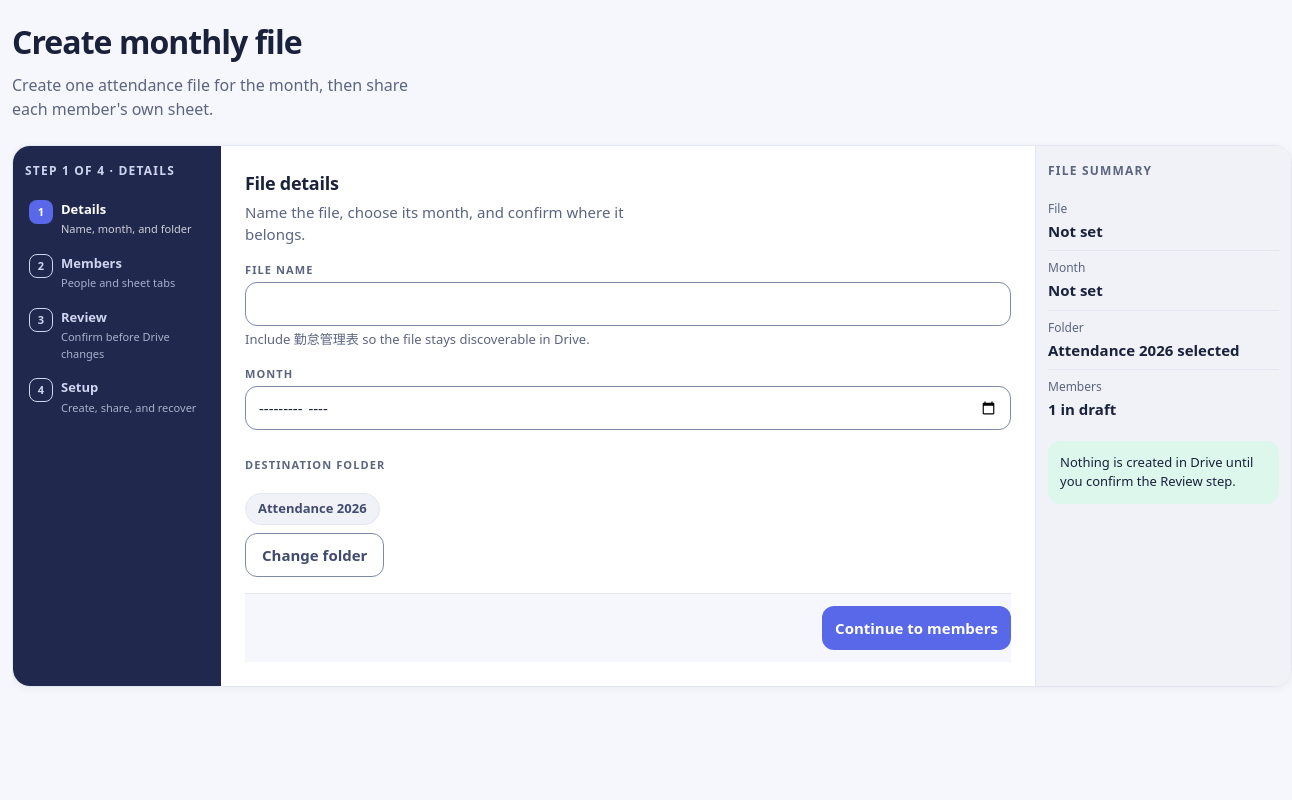
Test case: NewFileWizard — stages › moves through file details, members, then review
expect the text "Attendance 2026" is shown: met, box left=245, top=493, right=380, bottom=525
Type "202607勤怠管理表" into the field labelled "File name" at (628, 304), box left=245, top=282, right=1011, bottom=326
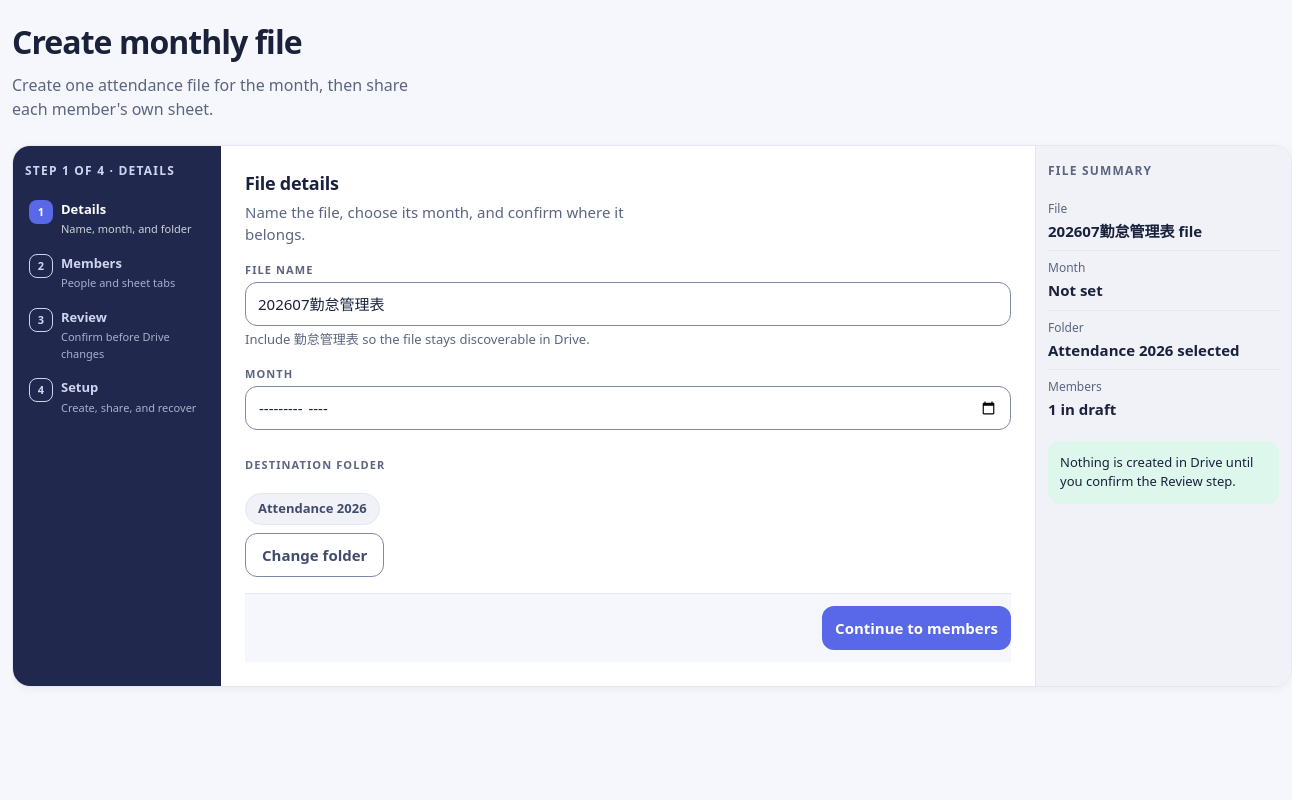
Type "2026-07" into the field labelled "Month" at (628, 408), box left=245, top=386, right=1011, bottom=430
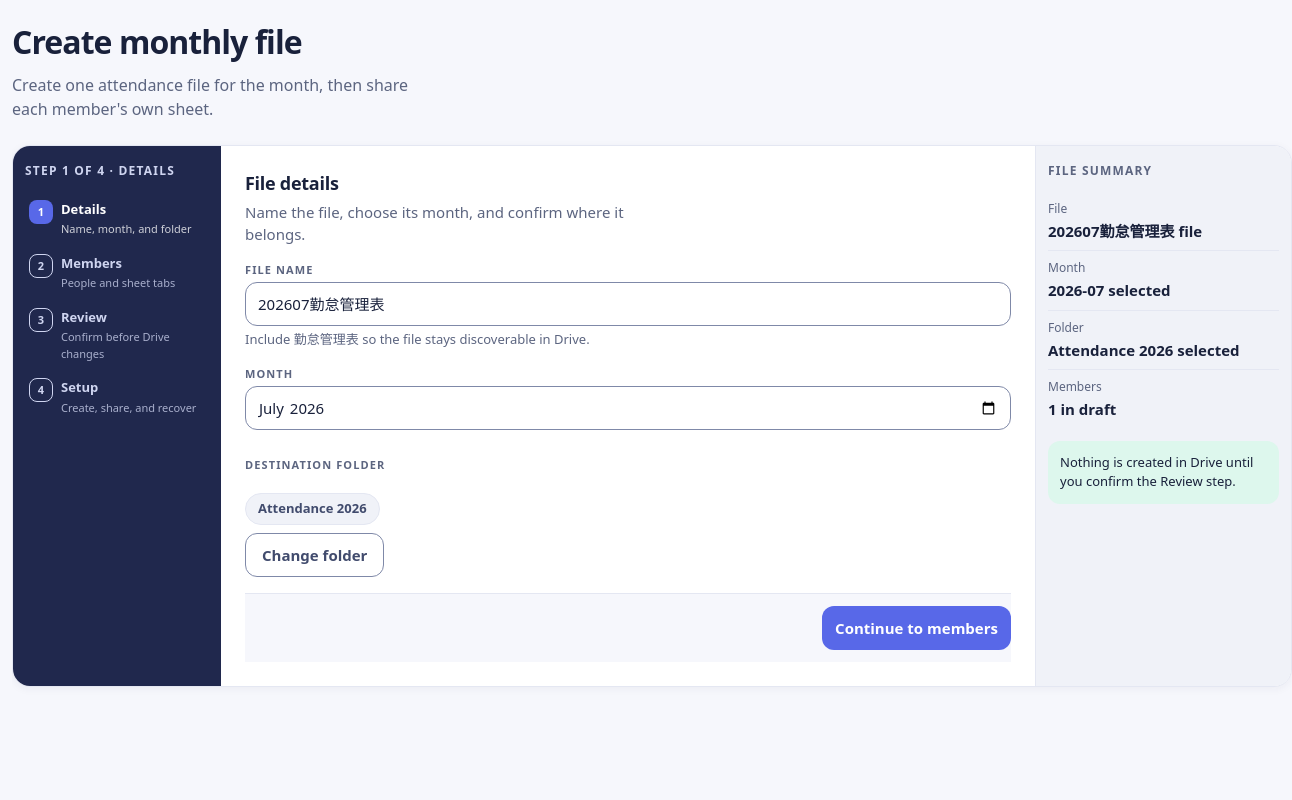
Click the button "Continue to members" at (917, 628), box left=822, top=606, right=1011, bottom=650
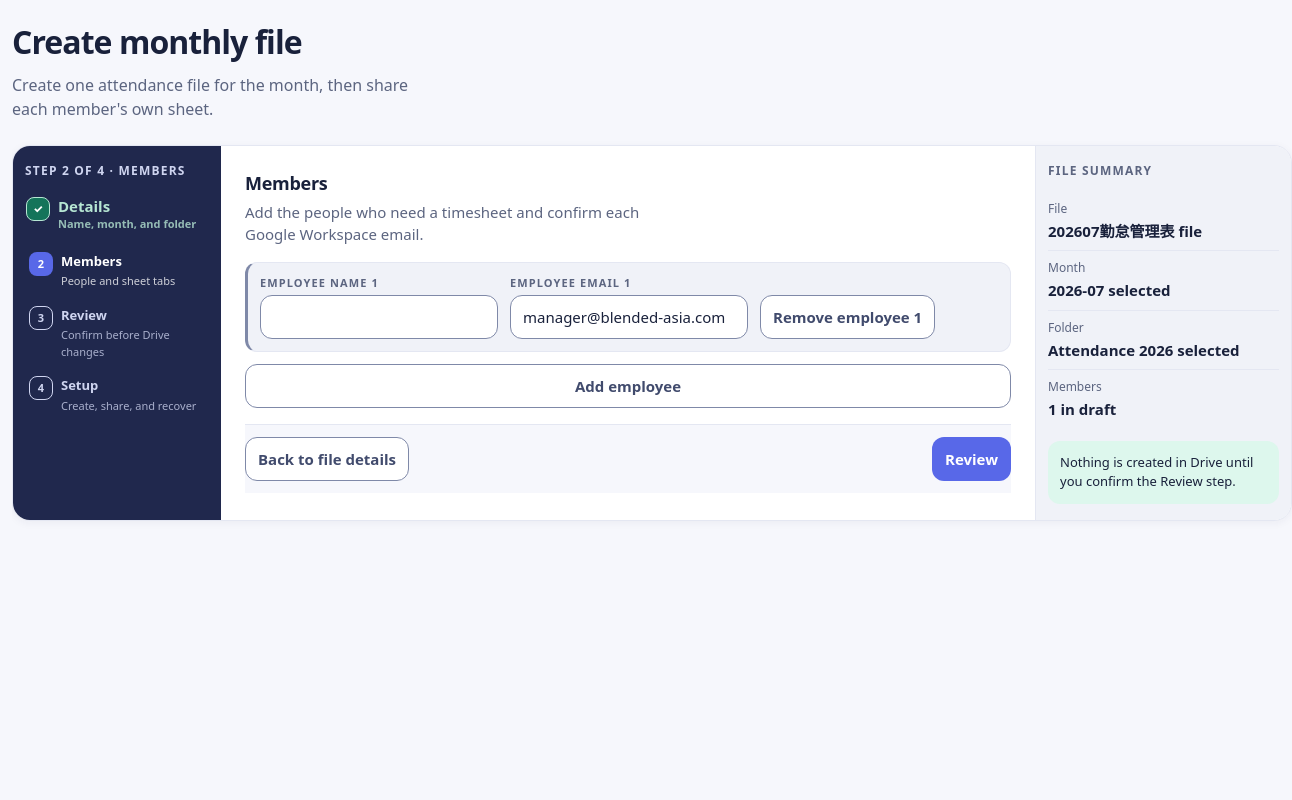
Type "Employee A" into the field labelled "Employee name 1" at (379, 317), box left=260, top=295, right=498, bottom=339
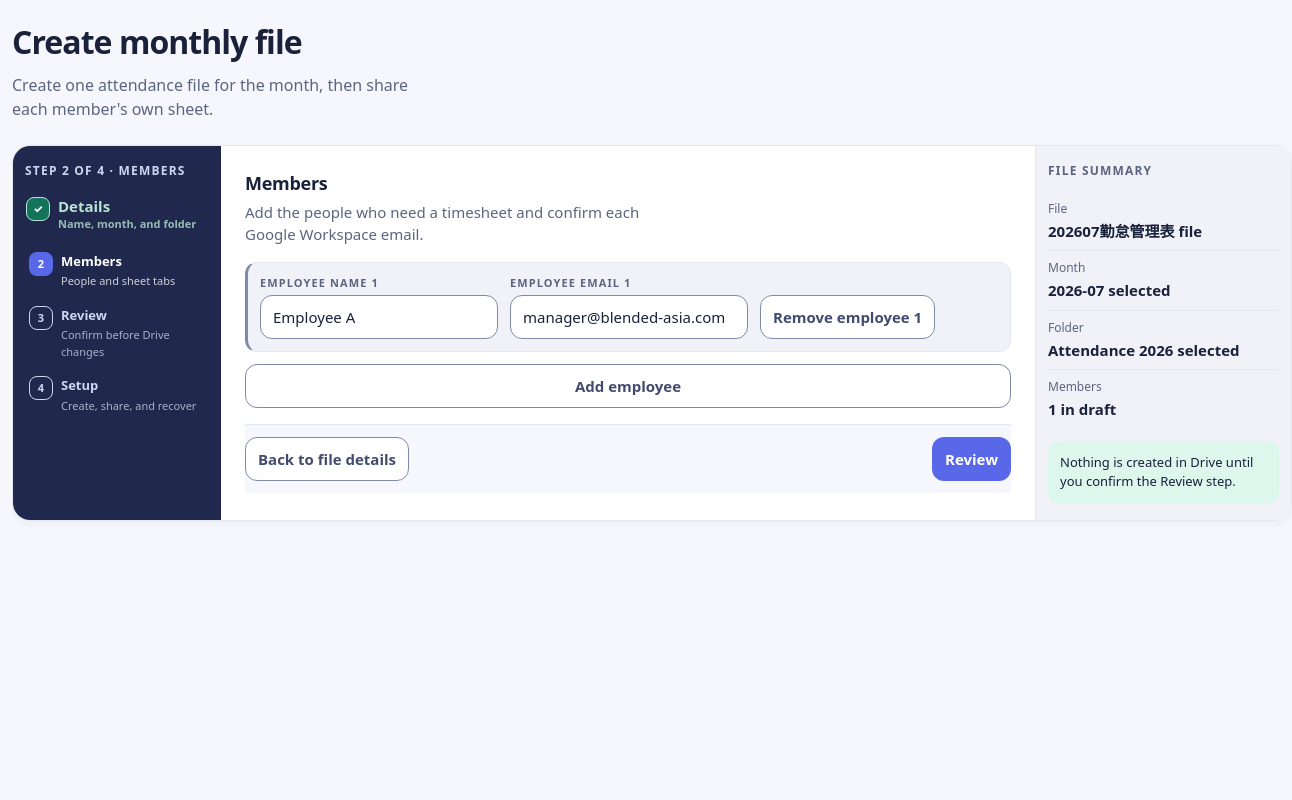
Replace the text in the field labelled "Employee email 1" with "employee-a@blended-asia.com" at (629, 317), box left=510, top=295, right=748, bottom=339
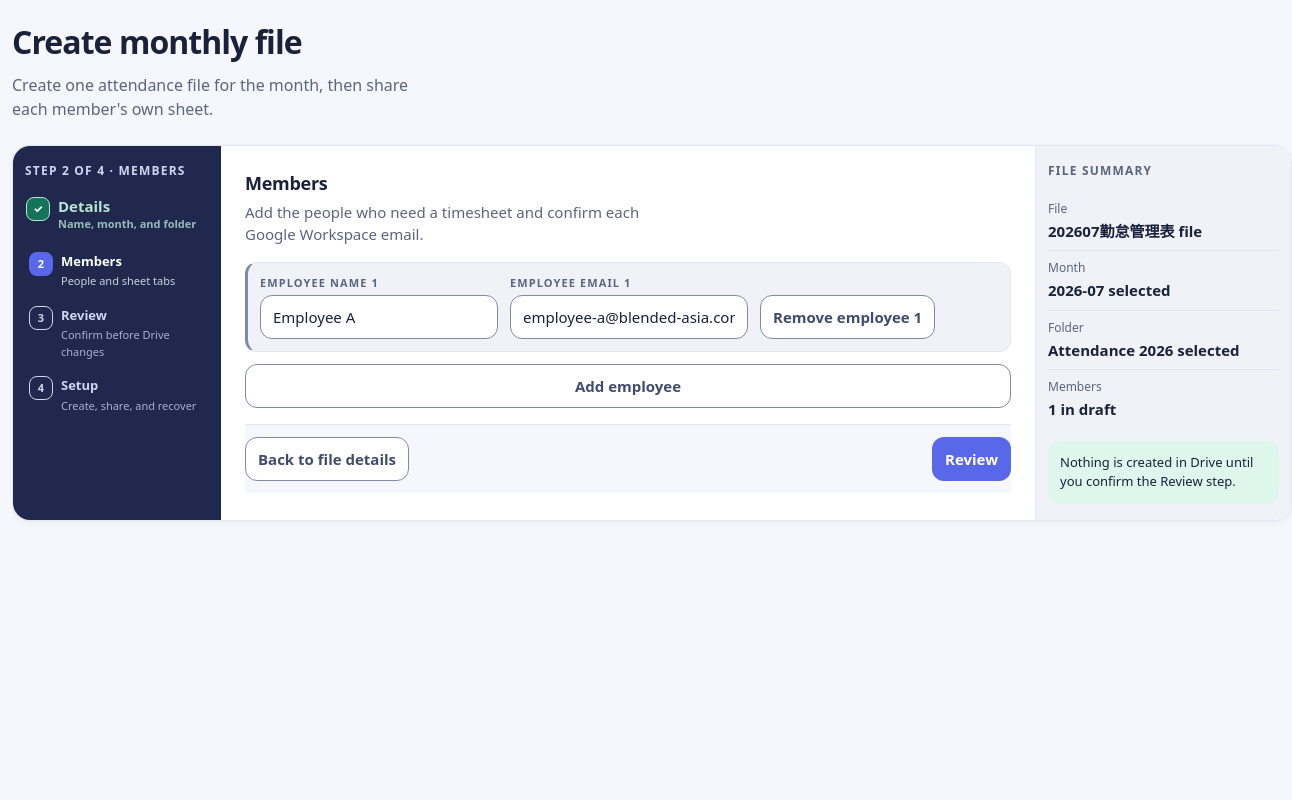
Click the button "Review" at (972, 459), box left=932, top=437, right=1011, bottom=481
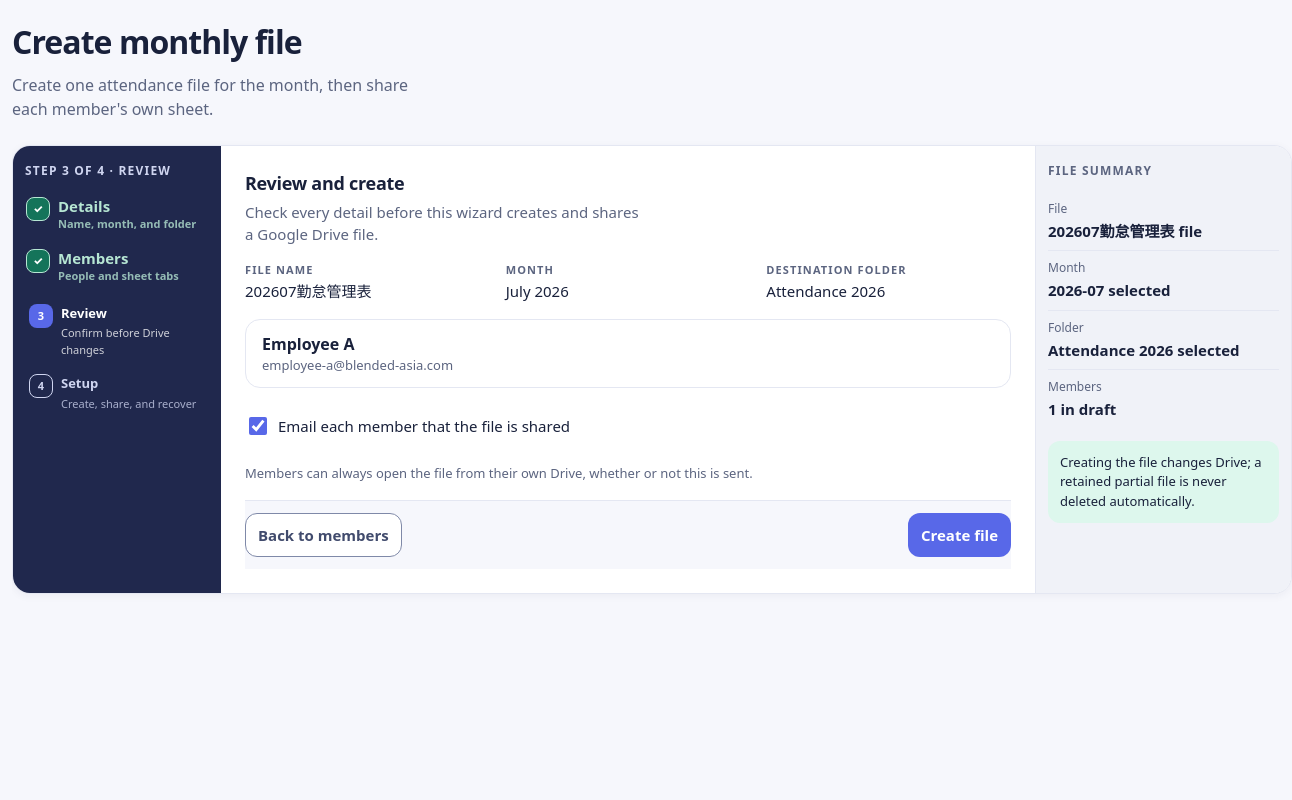
expect the heading "Review and create" is shown: met, box left=245, top=171, right=404, bottom=195
